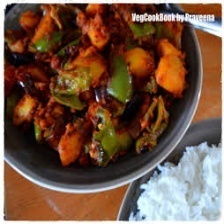rice: (127, 139, 221, 221)
